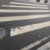zebra: (1, 2, 50, 36)
